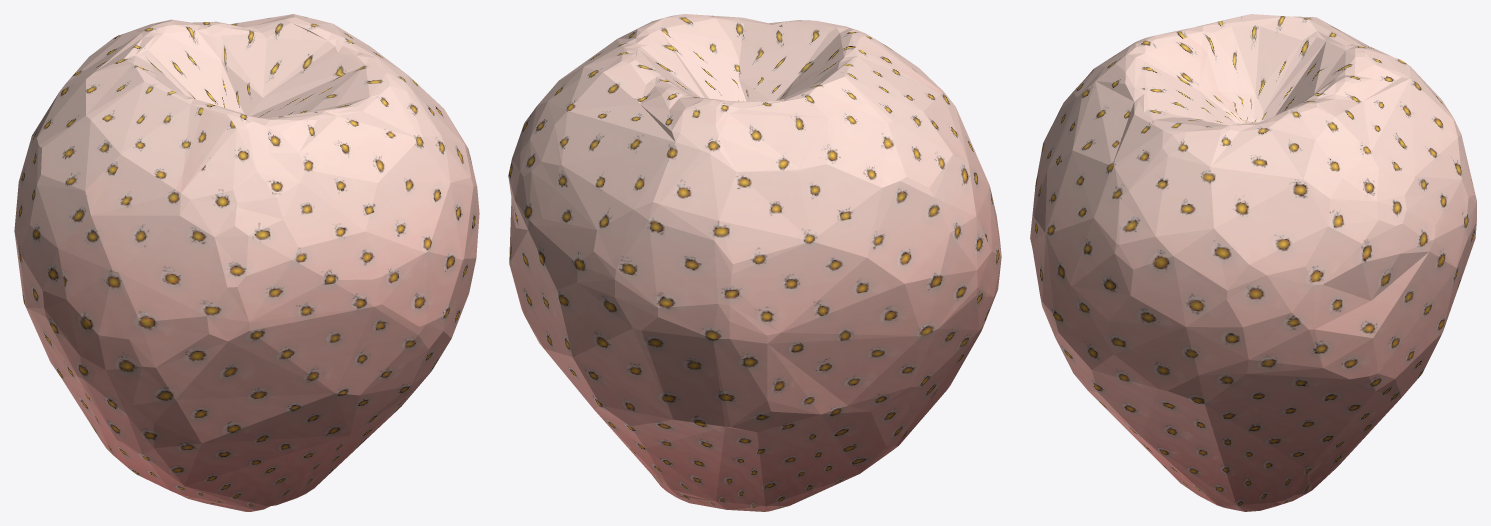
3 views of the same model, side by side, from view 1: azimuth 30°, elevation 25°; view 2: azimuth 150°, elevation 25°; view 3: azimuth 270°, elevation 25° (orthographic). The views are drawn at different scales.
Parts seen in each view (by area): view 1: _000_Meshed; view 2: _000_Meshed; view 3: _000_Meshed.
Boxes of the visible parts, x1,y1,x2,y2 form: _000_Meshed: (14, 14, 479, 511); _000_Meshed: (508, 14, 1001, 511); _000_Meshed: (1030, 14, 1476, 511).
Size of the model in its own units: 0.1127 by 0.1067 by 0.1146.
1 material, 1 textured.
